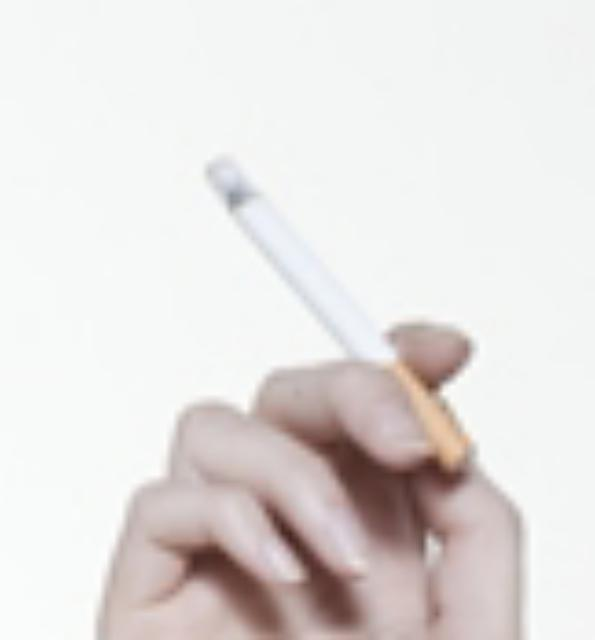Cigarette: (205, 154, 479, 476)
